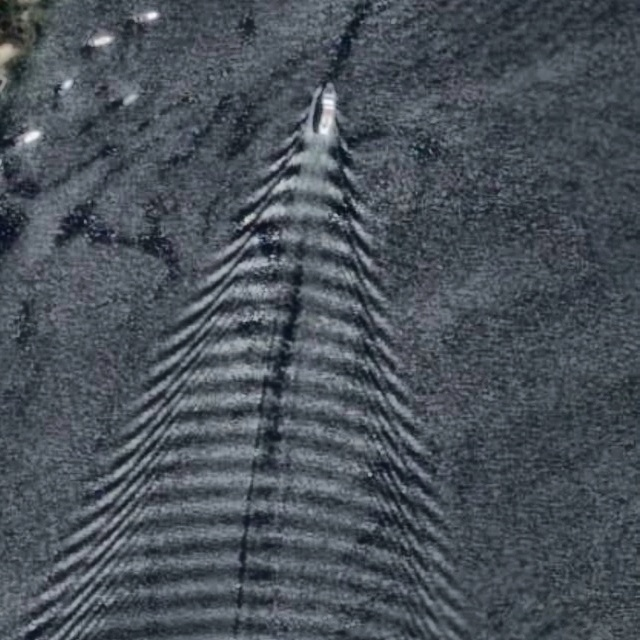wake: (172, 60, 432, 487)
